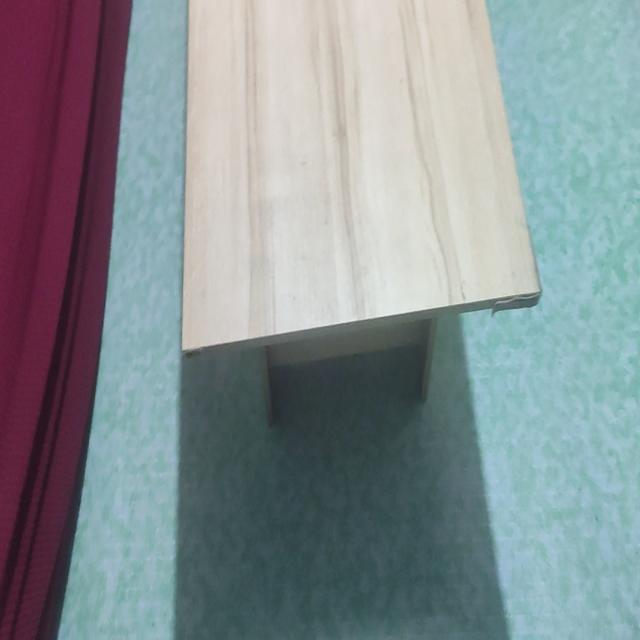table: (170, 0, 542, 419)
